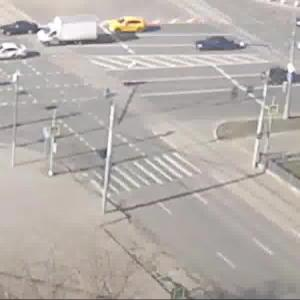car: (31, 21, 97, 49), (195, 37, 260, 59), (262, 64, 300, 89), (106, 15, 146, 35), (1, 18, 38, 37), (1, 41, 27, 68)
